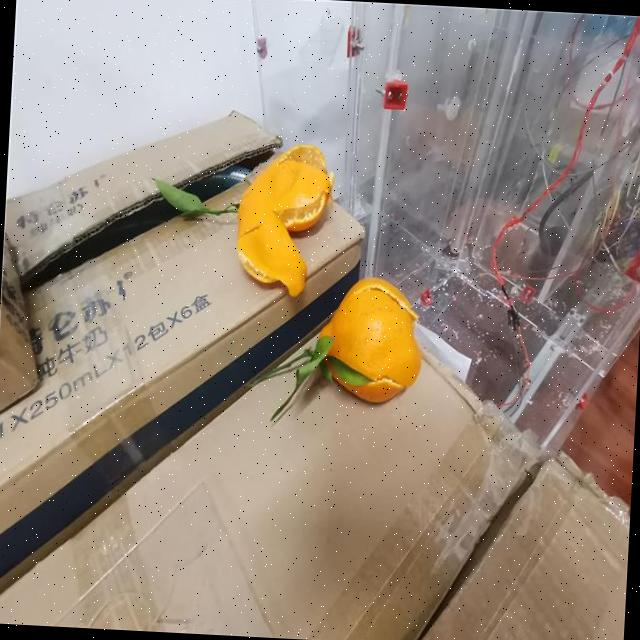orange-peel: (313, 272, 427, 406)
